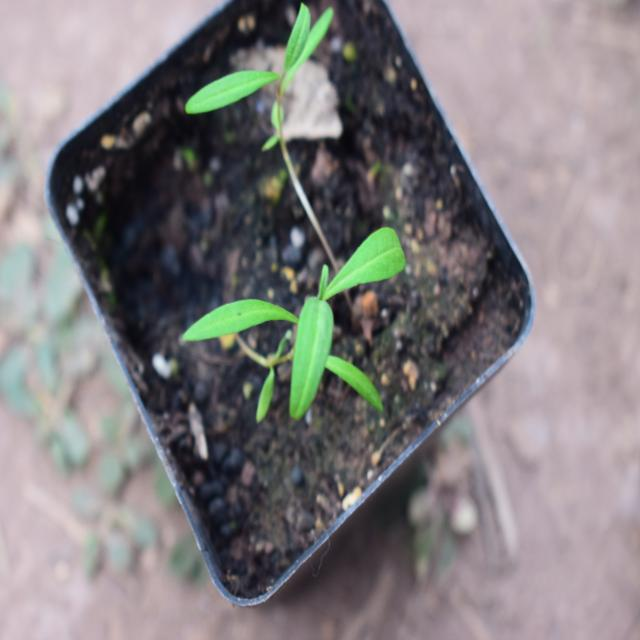white_smart_weed: (179, 222, 441, 428), (167, 0, 342, 125)
